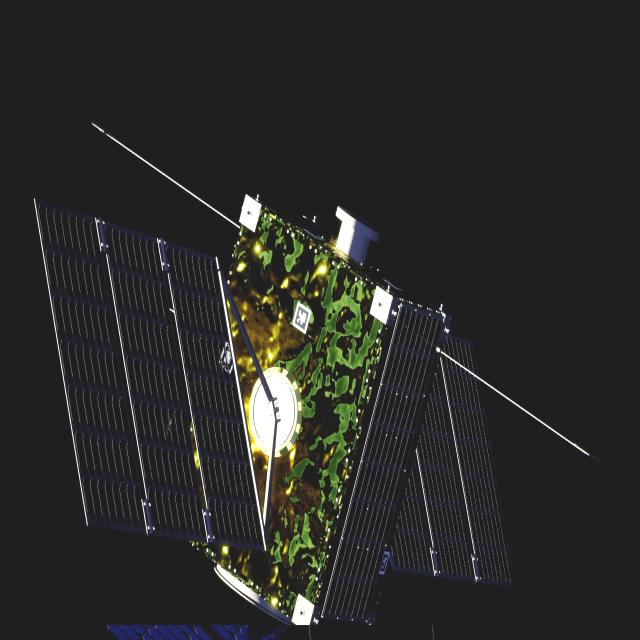satellite: (35, 198, 510, 630)
